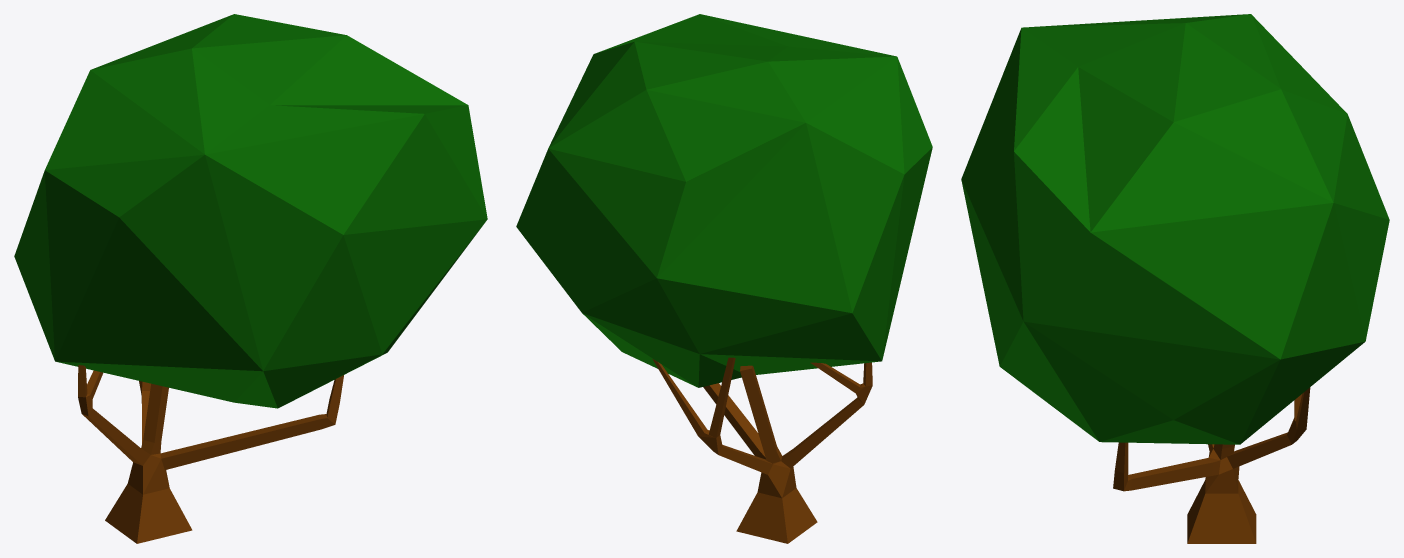
The model's file is Bush.fbx.
3 views of the same model, side by side, from view 1: azimuth 30°, elevation 25°; view 2: azimuth 150°, elevation 25°; view 3: azimuth 270°, elevation 25° (orthographic). The views are drawn at different scales.
Parts seen in each view (by area): view 1: Icosphere; view 2: Icosphere; view 3: Icosphere.
Part boxes in pixels (left/top/right/bottom): Icosphere: left=14, top=14, right=487, bottom=543; Icosphere: left=516, top=14, right=932, bottom=543; Icosphere: left=961, top=14, right=1389, bottom=543.
Size of the model in its own units: 102 by 124 by 92.36.
